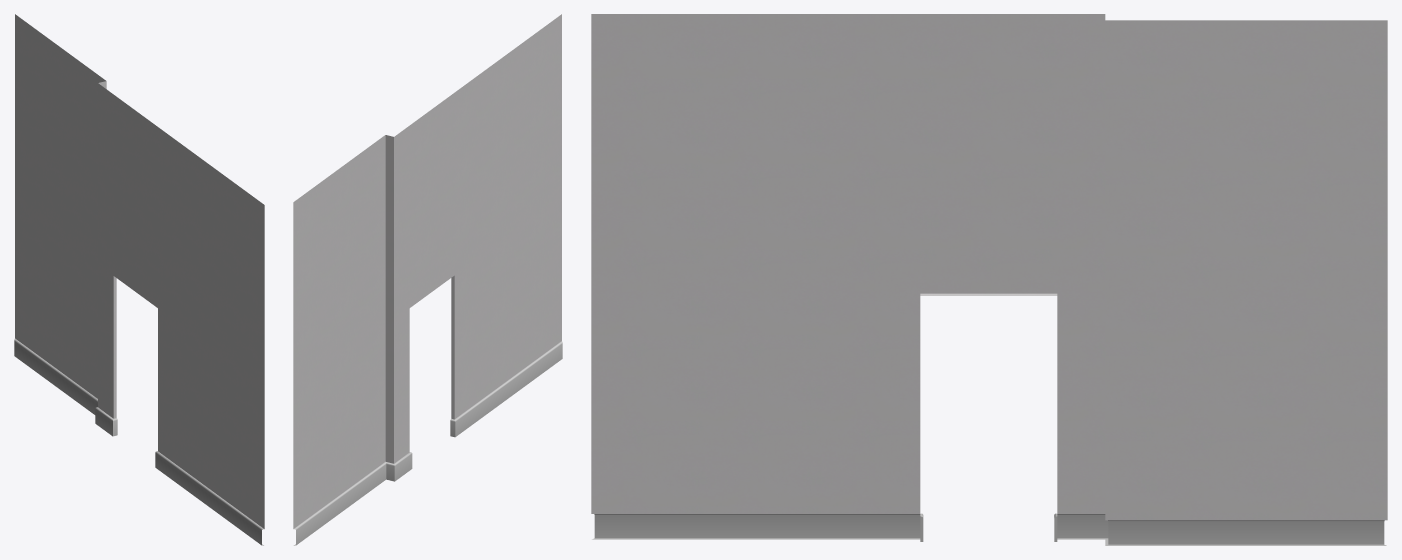
File: SM_Wall_White_18.fbx
3 views of the same model, side by side, from view 1: azimuth 30°, elevation 25°; view 2: azimuth 150°, elevation 25°; view 3: azimuth 270°, elevation 25° (orthographic). The views are drawn at different scales.
Visible parts, largest first — view 1: SM_Wall_White_18; view 2: SM_Wall_White_18; view 3: SM_Wall_White_18.
Part boxes in pixels (left/top/right/bottom): SM_Wall_White_18: left=14, top=14, right=264, bottom=545; SM_Wall_White_18: left=293, top=14, right=562, bottom=545; SM_Wall_White_18: left=591, top=14, right=1387, bottom=545.
Size of the model in its own units: 14.83 by 651 by 474.
